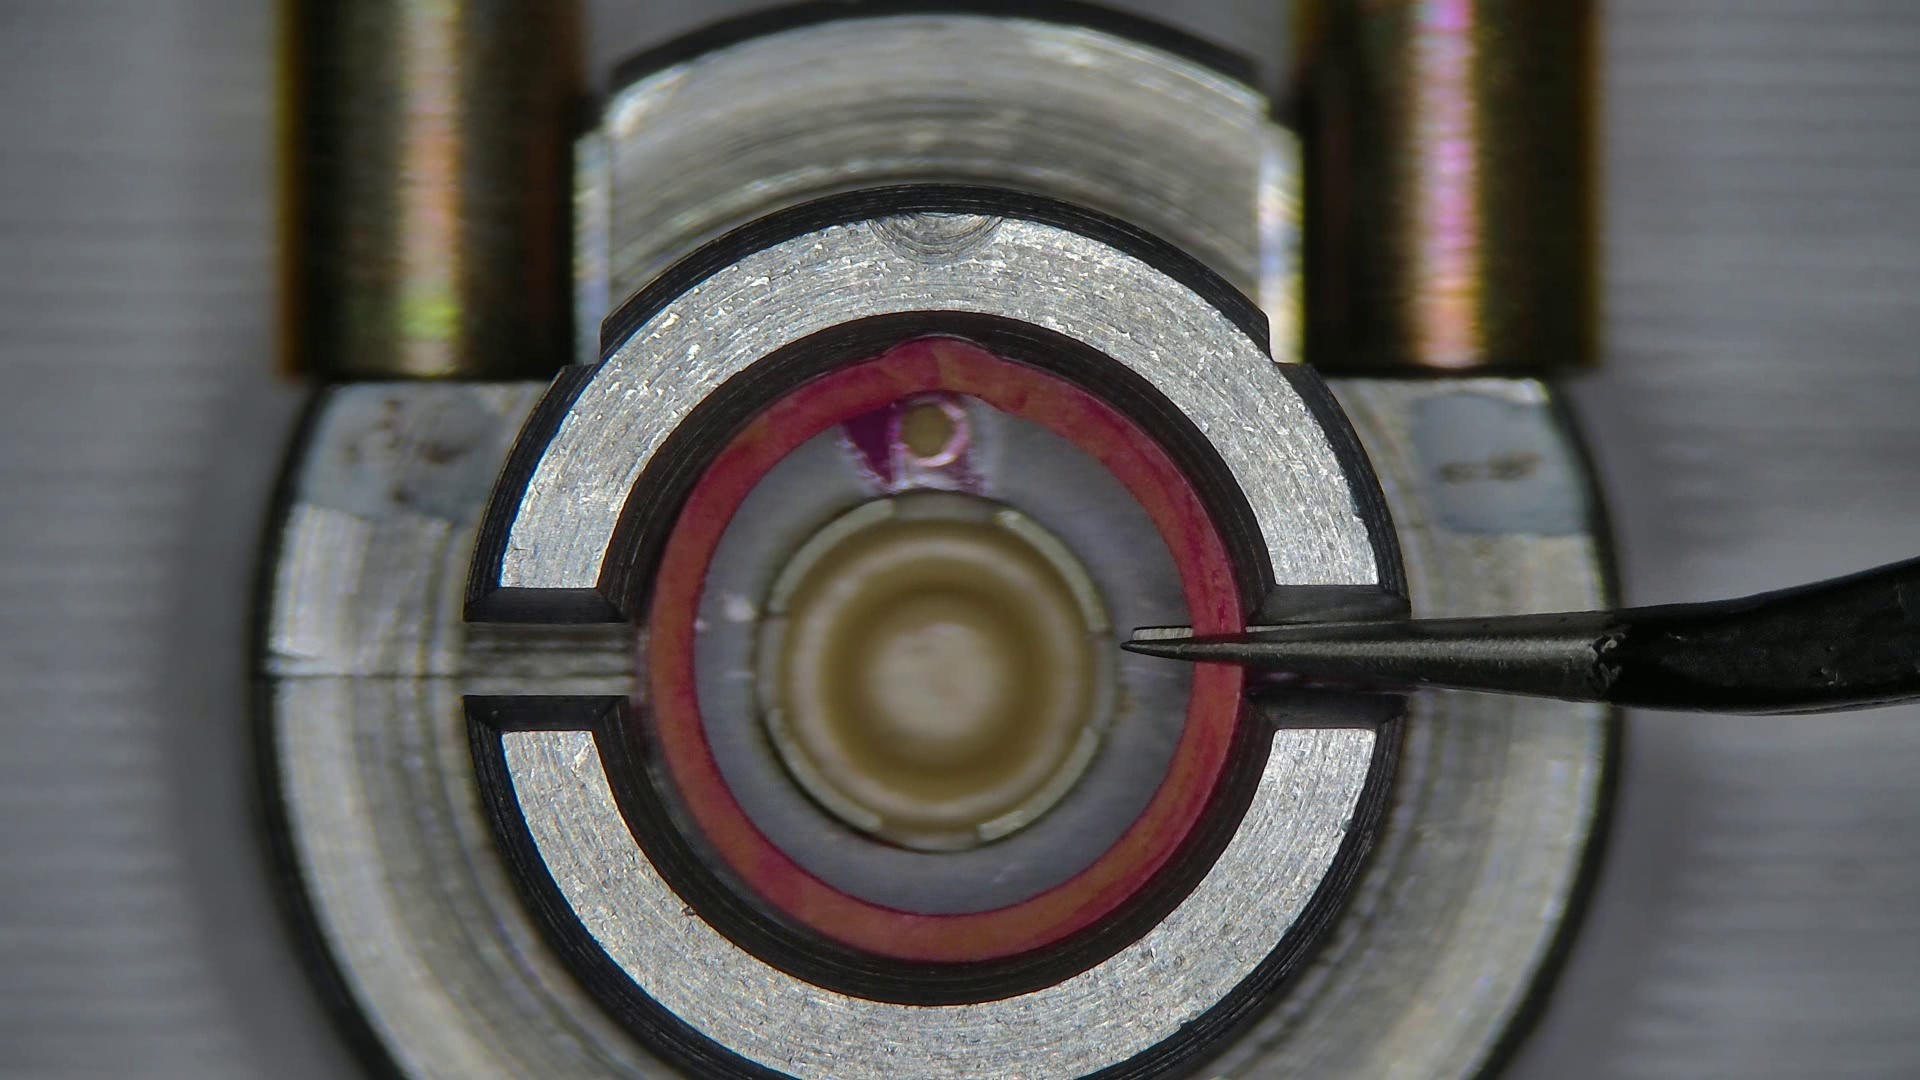GreyOring: (645, 339, 1244, 963)
YellowOring: (696, 397, 1188, 913)
